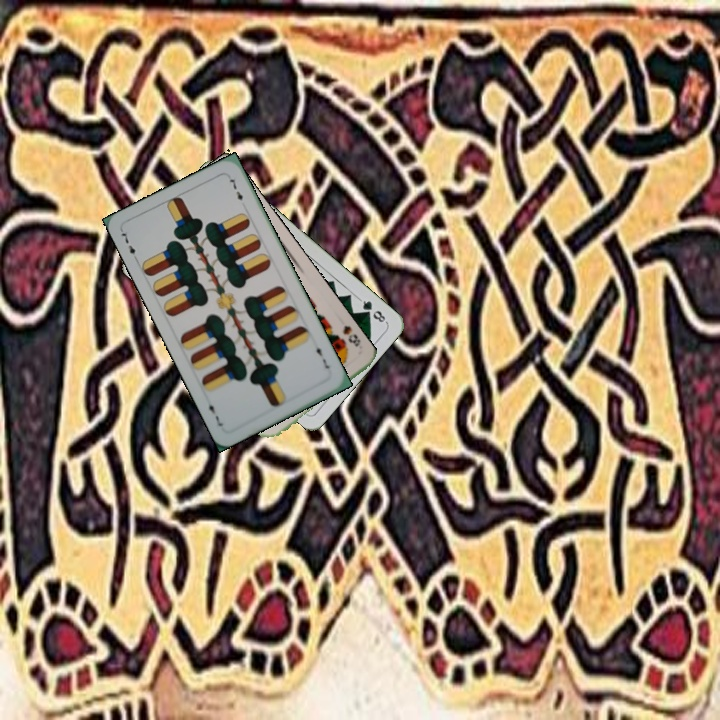E7: (117, 226, 141, 264), (312, 339, 333, 372)
G8: (355, 295, 389, 325)
S8: (339, 321, 363, 349)
